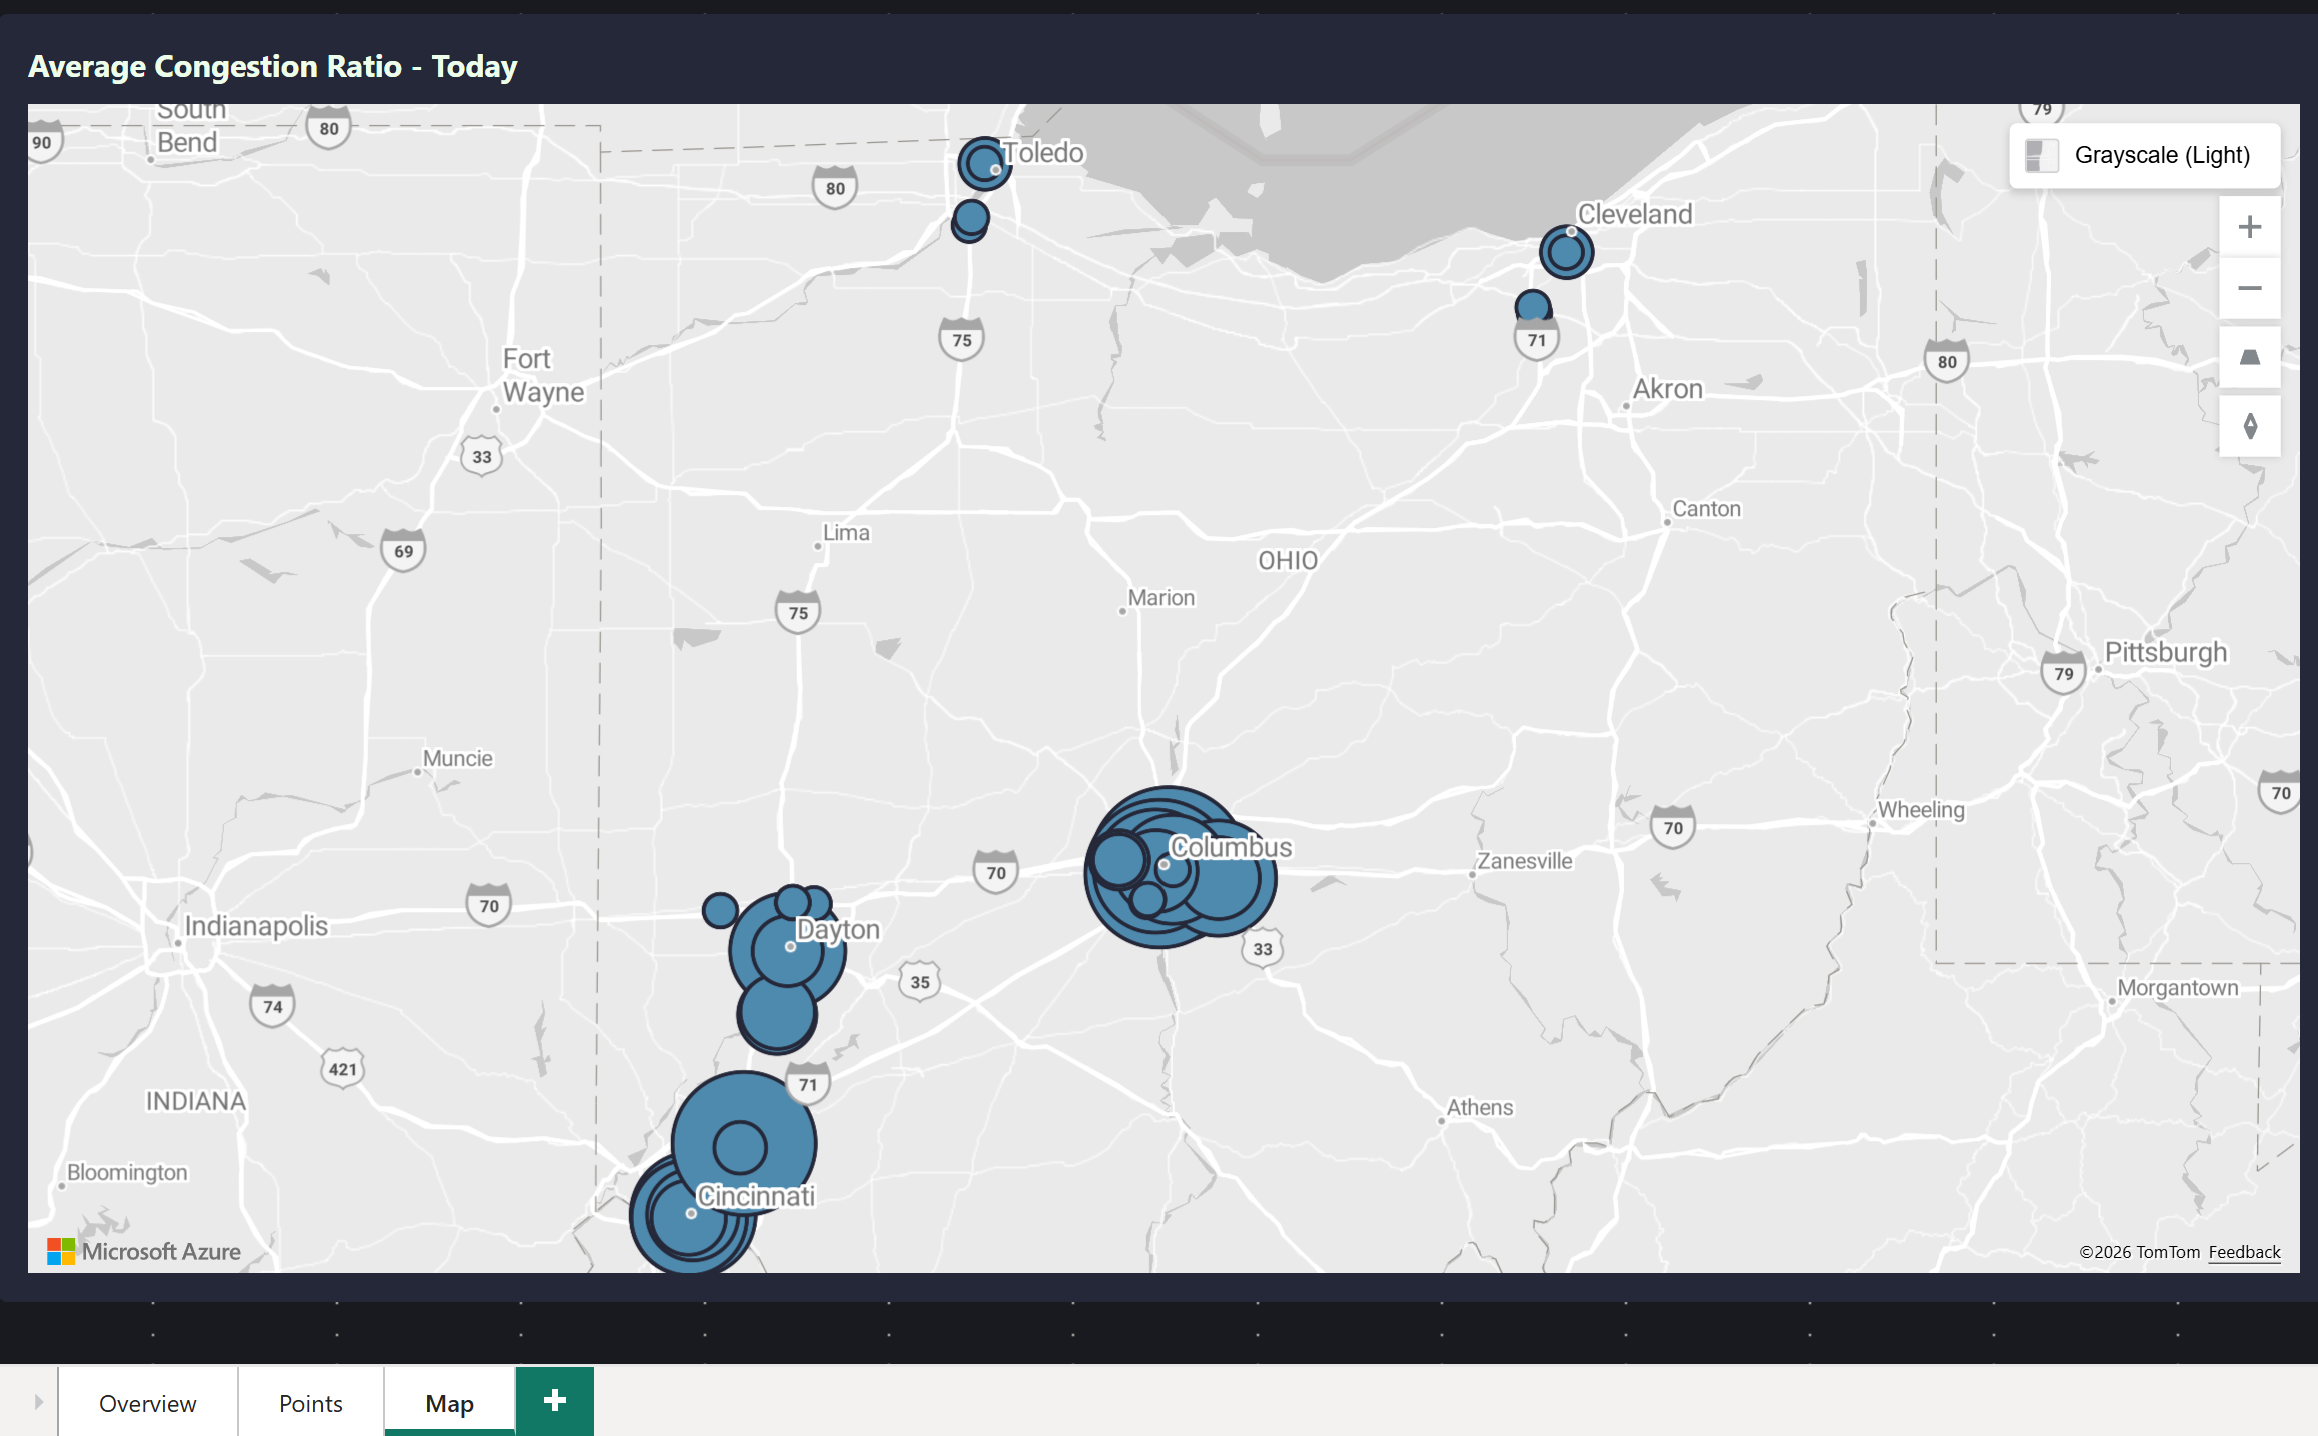

What the dashboard file says about the page in this screenshot:
{"tool":"powerbi","page":{"name":"Map","canvas":[1280,720],"ordinal":2},"visuals":[{"type":"azureMap","title":"Average Congestion Ratio - Today","fields":{"Y":["vw_powerbi_point_summary_today.latitude"],"X":["vw_powerbi_point_summary_today.longitude"],"Size":["Avg(vw_powerbi_point_summary_today.avg_congestion_ratio)"]},"box":[16,16,1216,672],"z":0}]}

Visuals, with their boxes in screenshot pixels (x1, y1, x2, y2):
"Average Congestion Ratio - Today" azureMap: BBox(24, 108, 2275, 1352)
